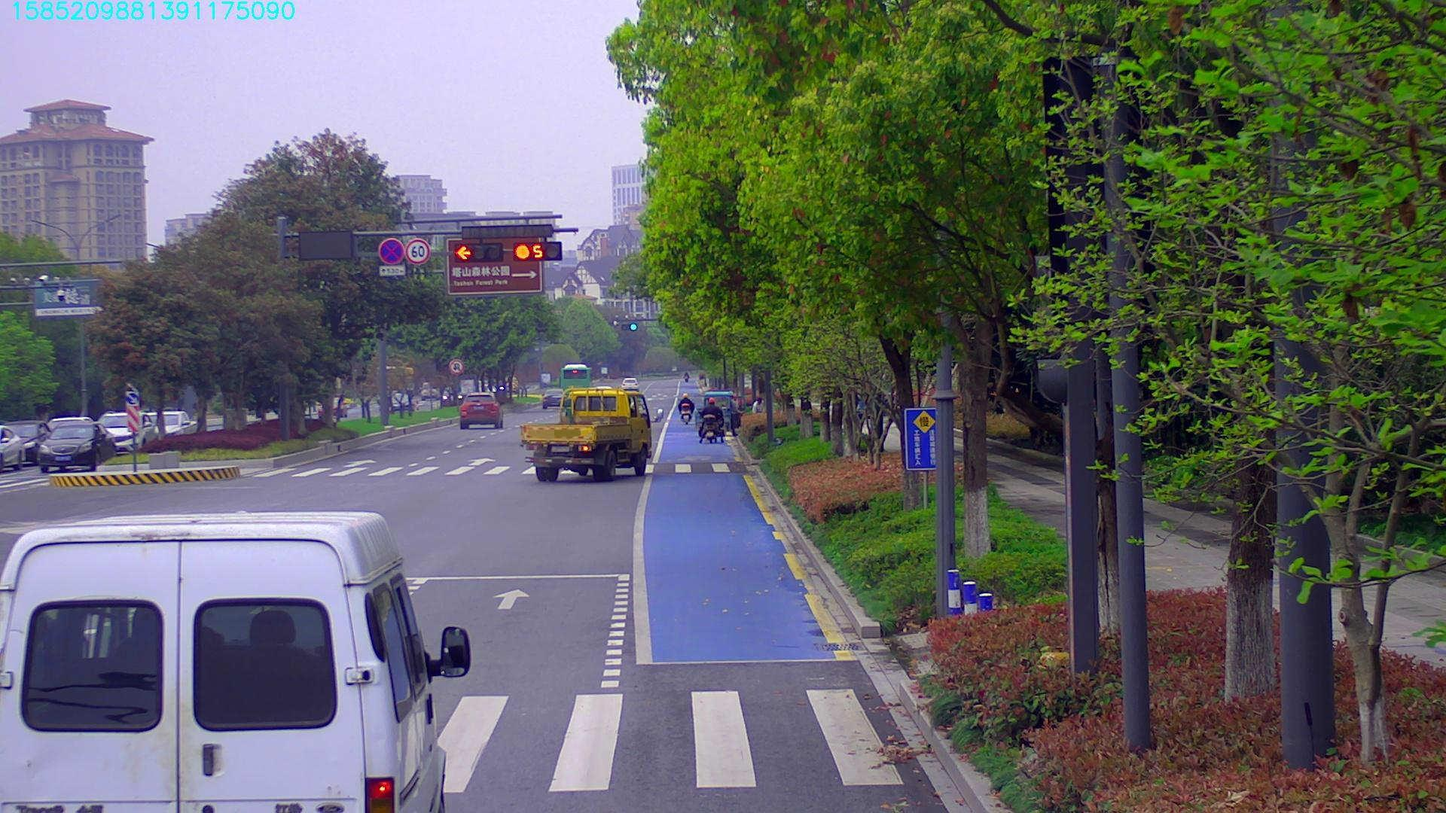red: (454, 244, 505, 262), (511, 244, 559, 261)
